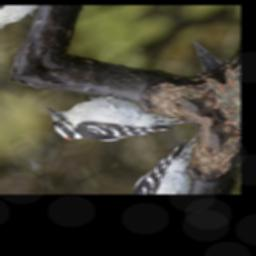Woodpecker: (40, 60, 188, 172)
